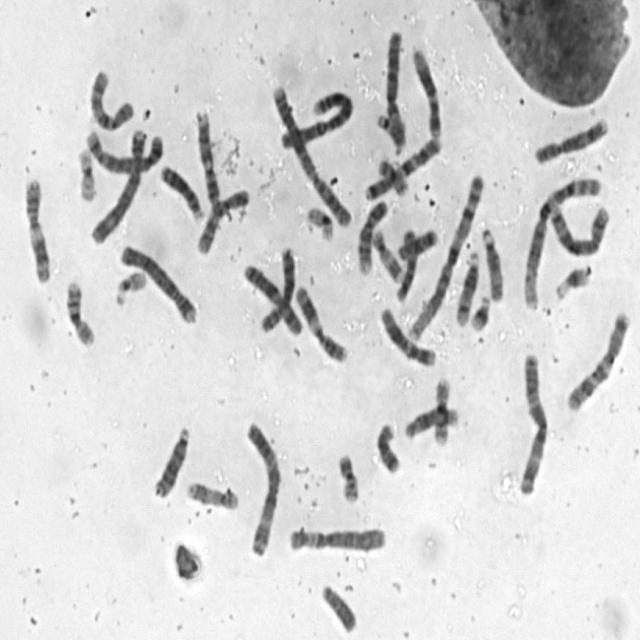A1: (404, 165, 488, 342), (520, 171, 605, 313)
A2: (268, 80, 354, 231), (276, 84, 356, 152)
A3: (240, 413, 282, 559), (514, 347, 551, 498)
B4: (87, 122, 148, 245), (116, 238, 199, 326)
B5: (82, 122, 166, 176), (545, 198, 612, 258)
C10: (193, 184, 251, 258), (85, 62, 136, 133)
C11: (291, 279, 351, 365), (20, 172, 52, 284)
C12: (377, 302, 438, 368), (408, 41, 444, 140)
C6: (283, 518, 389, 556), (382, 24, 408, 154)
C7: (561, 305, 633, 413), (360, 134, 443, 202)
C8: (531, 111, 611, 166), (257, 242, 296, 335)
C9: (191, 104, 222, 208), (354, 195, 390, 276)
D13: (149, 419, 192, 500), (157, 160, 206, 222)
D14: (452, 243, 482, 327), (401, 400, 461, 442)
D15: (477, 220, 506, 304), (393, 222, 420, 305)
E16: (62, 274, 98, 348), (430, 374, 452, 447)
E17: (183, 474, 242, 512), (368, 224, 404, 284)
E18: (372, 416, 402, 476), (396, 224, 441, 262)
F19: (73, 142, 98, 203), (302, 200, 336, 243)
F20: (334, 447, 361, 505), (375, 156, 409, 197)
G21: (550, 258, 592, 304), (467, 290, 492, 333)
G22: (111, 264, 148, 308), (372, 108, 408, 152)
X: (239, 259, 303, 337)
Y: (318, 578, 358, 635)
